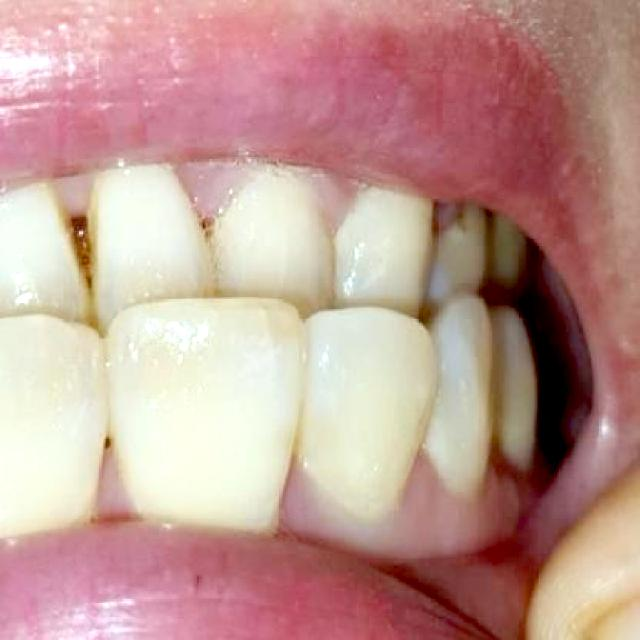Plaque: (57, 176, 97, 217)
